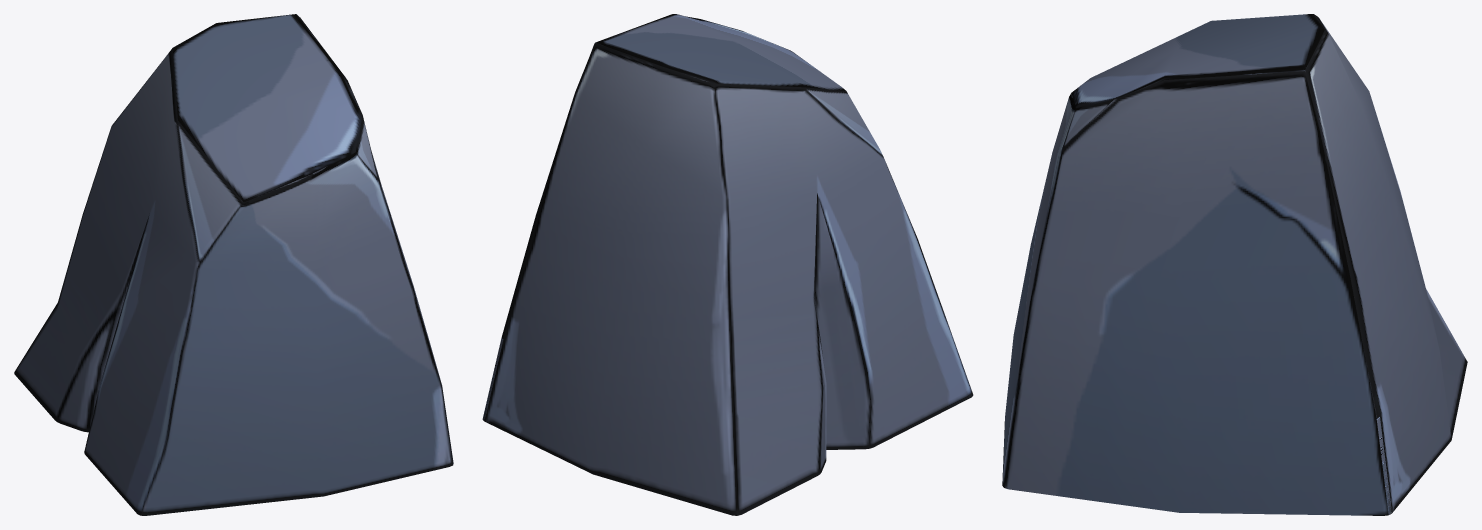
The model's file is Moonset_FBX_rock_03.fbx.
The picture shows the model from 3 angles, left to right: view 1: azimuth 30°, elevation 25°; view 2: azimuth 150°, elevation 25°; view 3: azimuth 270°, elevation 25°; orthographic projection. The views are drawn at different scales.
Parts seen in each view (by area): view 1: rocks3; view 2: rocks3; view 3: rocks3.
Part boxes in pixels (x1,y1,x2,y2): rocks3: (14, 14, 453, 515); rocks3: (482, 14, 973, 515); rocks3: (1002, 14, 1467, 515).
Bounding box in the file's own units: 3.63 × 3.71 × 3.84.
